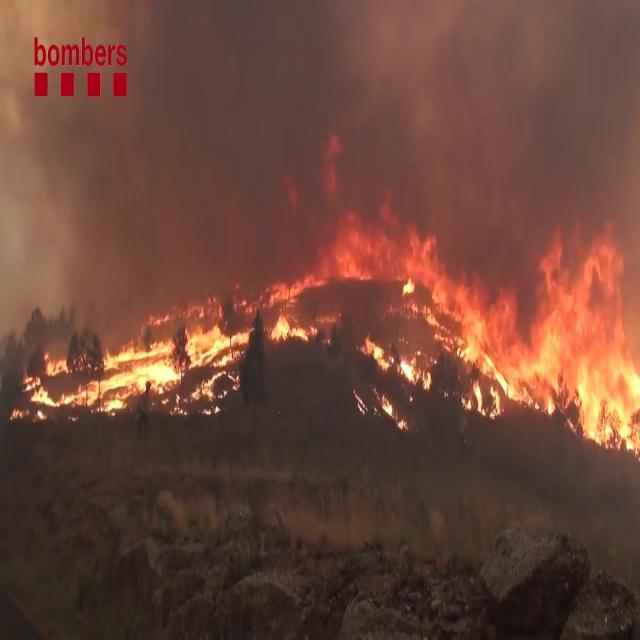Fire: (371, 221, 640, 447), (16, 296, 252, 416)
Smoke: (6, 0, 638, 283)
